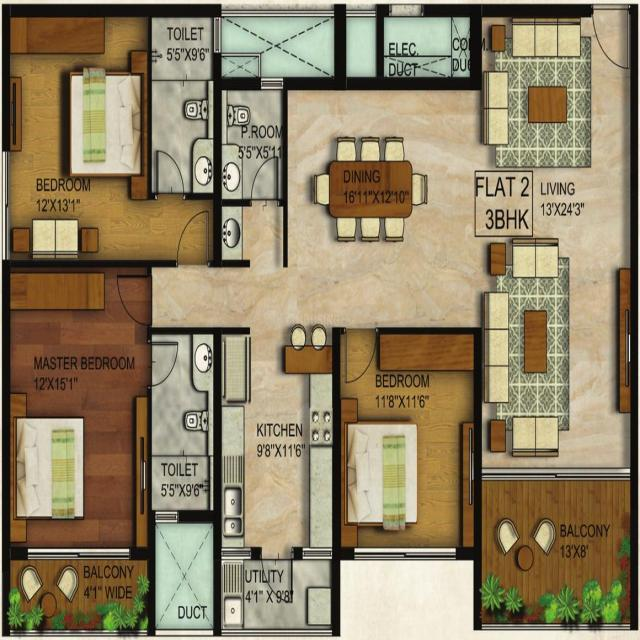Balcony-Sitout: (477, 476, 636, 628), (6, 554, 153, 635)
Bedroom: (334, 327, 476, 560)
Bedroom with Toilet: (3, 265, 218, 556), (2, 5, 220, 268)
Dining: (309, 135, 431, 247)
Enterance-Foyer: (588, 0, 634, 73)
Kitchen: (218, 330, 340, 550)
Living: (478, 8, 636, 475)
Toilet: (149, 7, 217, 200), (148, 331, 216, 517), (219, 82, 284, 263)
Utility: (218, 553, 337, 632)
